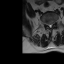CCS_severe_stenosis: (49, 22, 51, 29)
LFS_stenosis: (52, 20, 54, 26)
LLS_stenosis: (51, 22, 52, 29)
RFS_stenosis: (46, 21, 48, 27)
RLS_normal: (48, 22, 49, 28)
